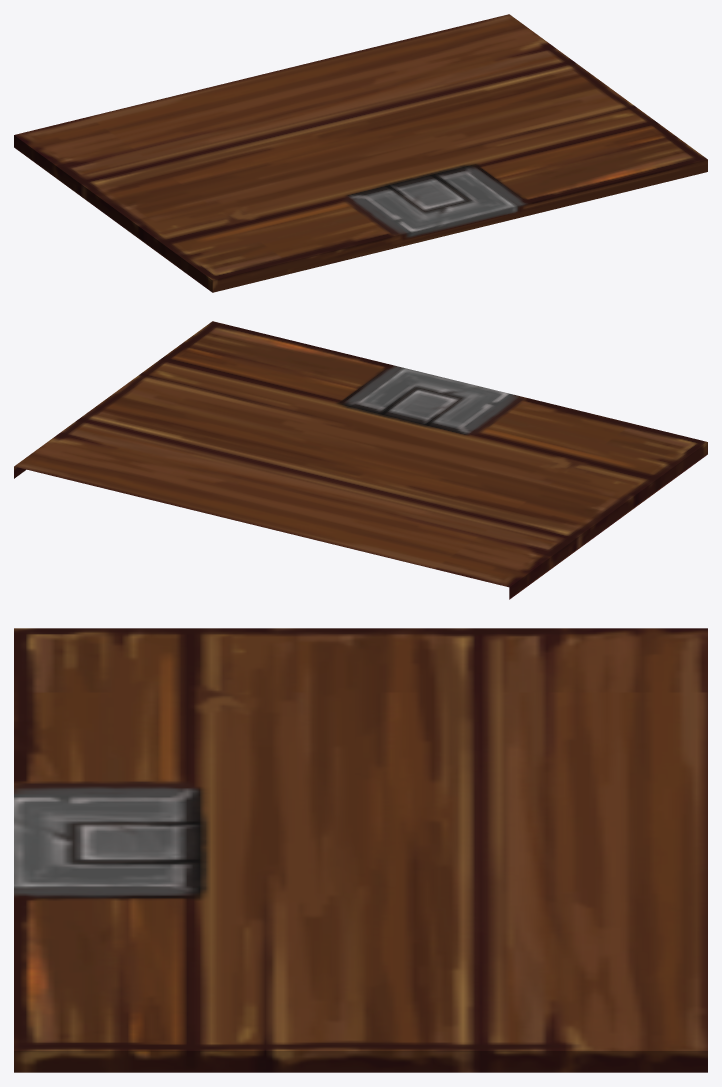
Rendered from Muban02.FBX.
3 views of the same model, one above another, from view 1: azimuth 30°, elevation 25°; view 2: azimuth 150°, elevation 25°; view 3: azimuth 270°, elevation 25° (orthographic). The views are drawn at different scales.
Parts seen in each view (by area): view 1: 对象006; view 2: 对象006; view 3: 对象006.
Boxes of the visible parts, x1=… form: 对象006: x1=14, y1=14, x2=707, y2=292; 对象006: x1=14, y1=321, x2=707, y2=599; 对象006: x1=14, y1=628, x2=707, y2=1072.
Bounding box in the file's own units: 133 × 3.19 × 92.47.
